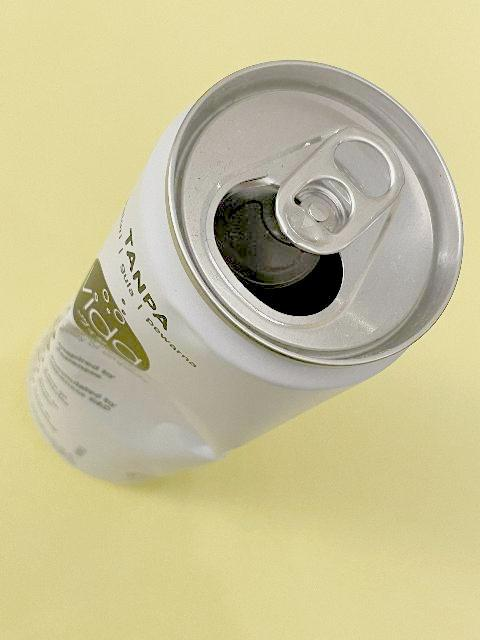drinkcan: (26, 57, 470, 489)
